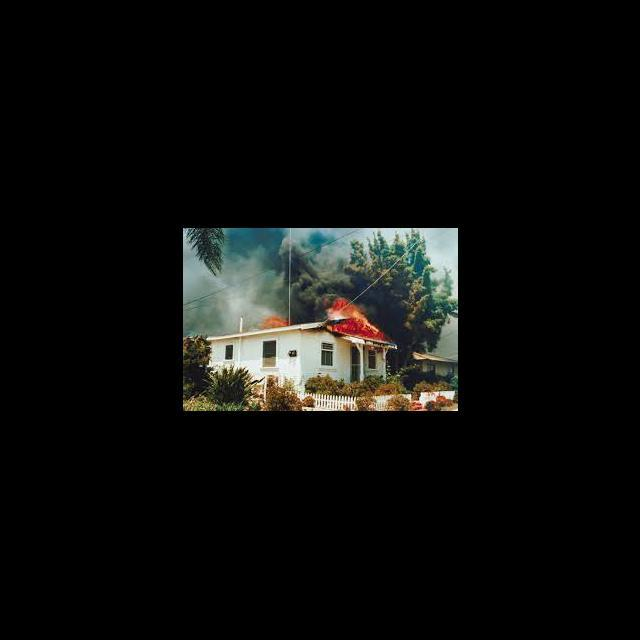Fire: (328, 296, 387, 340), (262, 314, 296, 332)
Smoke: (278, 232, 354, 294), (218, 248, 270, 315), (292, 295, 326, 321)
